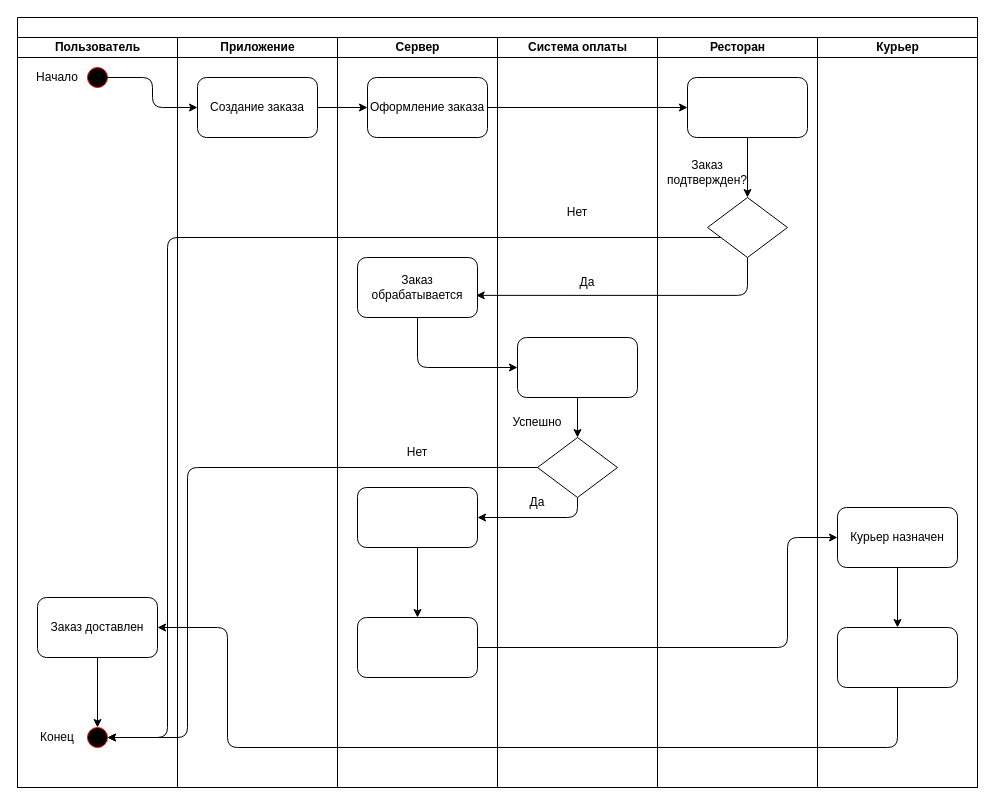
This 995x805 diagram has some shape labels left out. The centre of each missing label's shape, as x and y in pixels:
"Доставка заказ" goes at point (897, 657).
"Заказ оформлен" goes at point (417, 517).
"Назначение курьера" goes at point (417, 647).
"Оплата" goes at point (577, 367).
"Подтверждение заказа" goes at point (747, 107).
